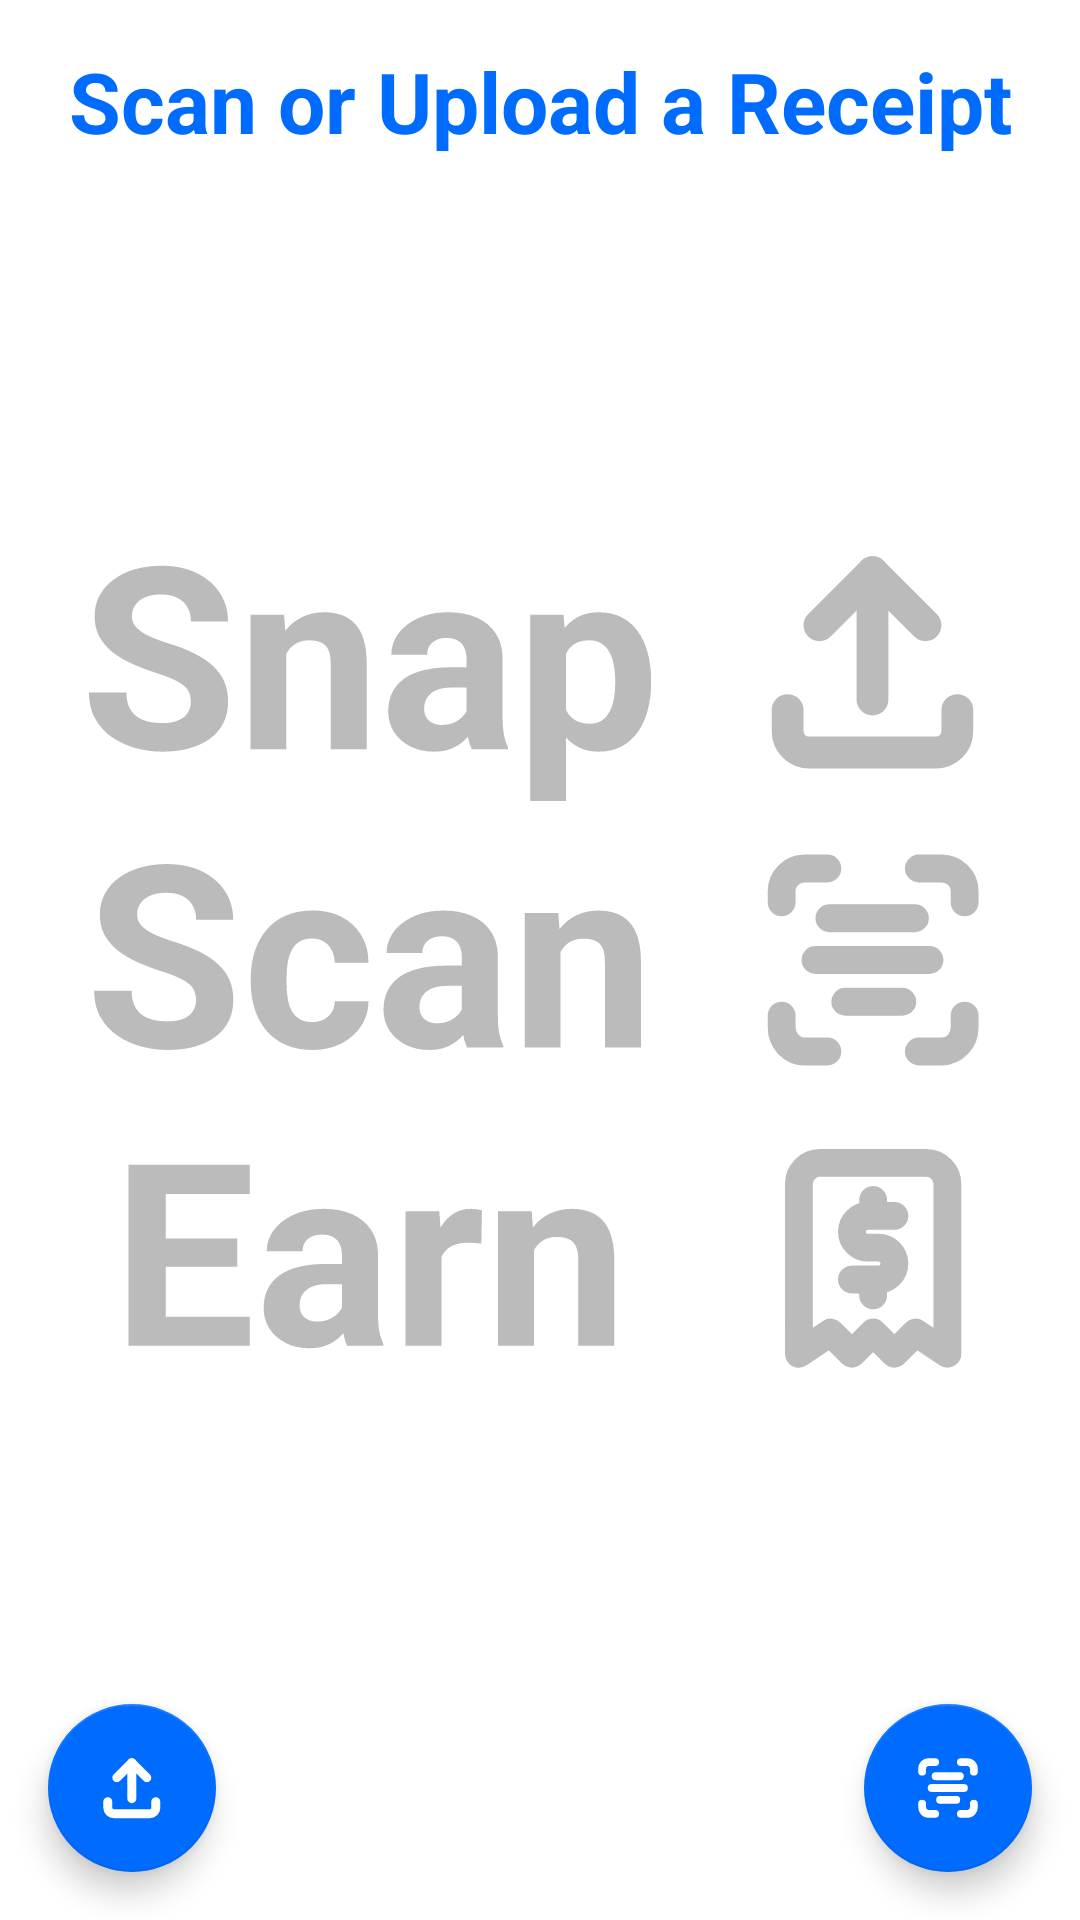

Icons on this 1080 × 1920 Android screen, each with the point to tap as point (x, y):
capture: point (948, 1788)
open files: point (132, 1788)
